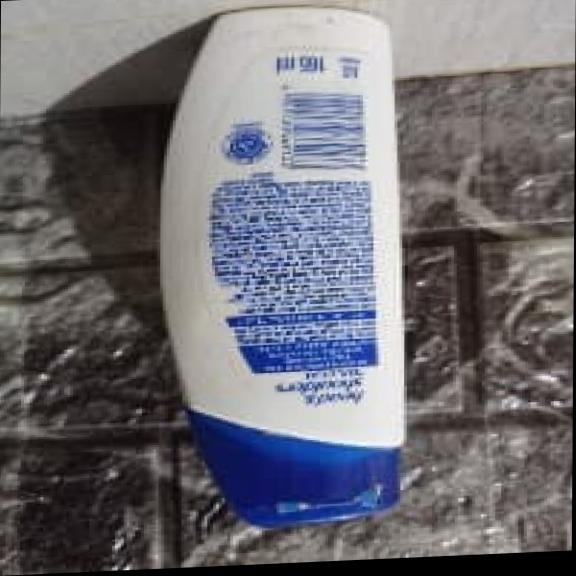Plastik: (159, 0, 414, 517)
